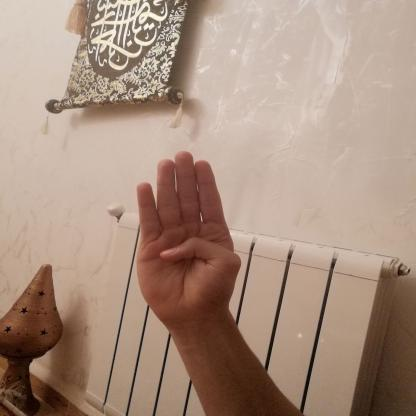KAAF: (119, 142, 256, 340)
